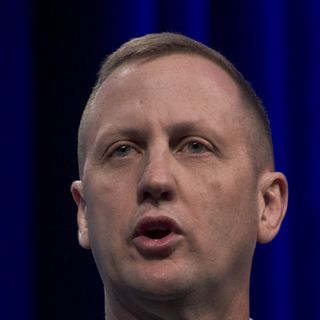eye: (171, 134, 221, 161), (100, 138, 145, 163)
